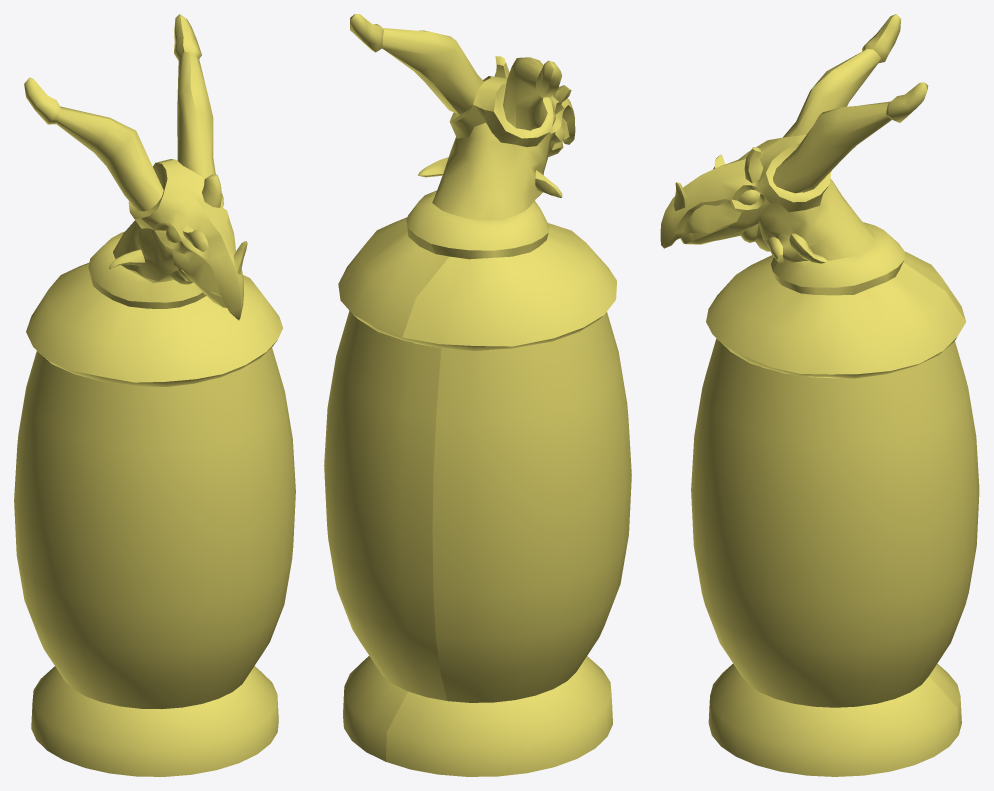
Rendered from SM_Dragon_Barrel.fbx.
The picture shows the model from 3 angles, left to right: view 1: azimuth 30°, elevation 25°; view 2: azimuth 150°, elevation 25°; view 3: azimuth 270°, elevation 25°; orthographic projection. The views are drawn at different scales.
Visible parts, largest first — view 1: SM_Dragon_Barrel; view 2: SM_Dragon_Barrel; view 3: SM_Dragon_Barrel.
Part boxes in pixels (x1,y1,x2,y2): SM_Dragon_Barrel: (14, 14, 295, 776); SM_Dragon_Barrel: (324, 14, 631, 776); SM_Dragon_Barrel: (660, 14, 979, 776).
Bounding box in the file's own units: 0.5583 × 1.44 × 0.6175.
